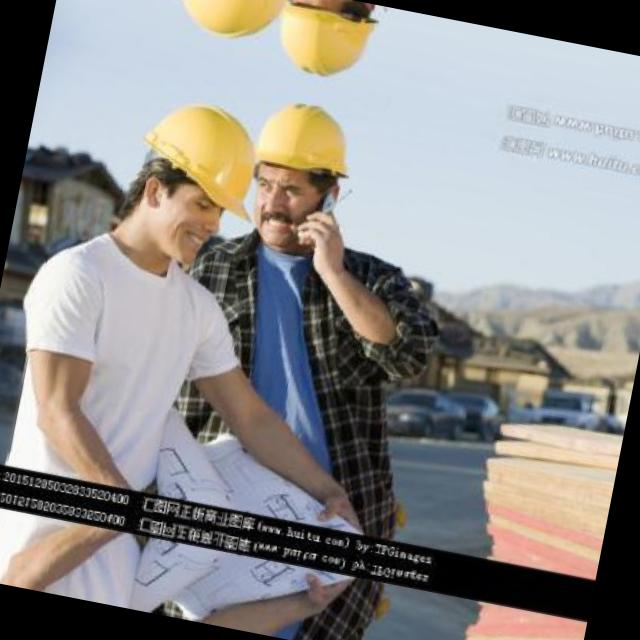helmet: (100, 82, 272, 267), (234, 90, 370, 270), (267, 0, 389, 92), (140, 0, 296, 57)
